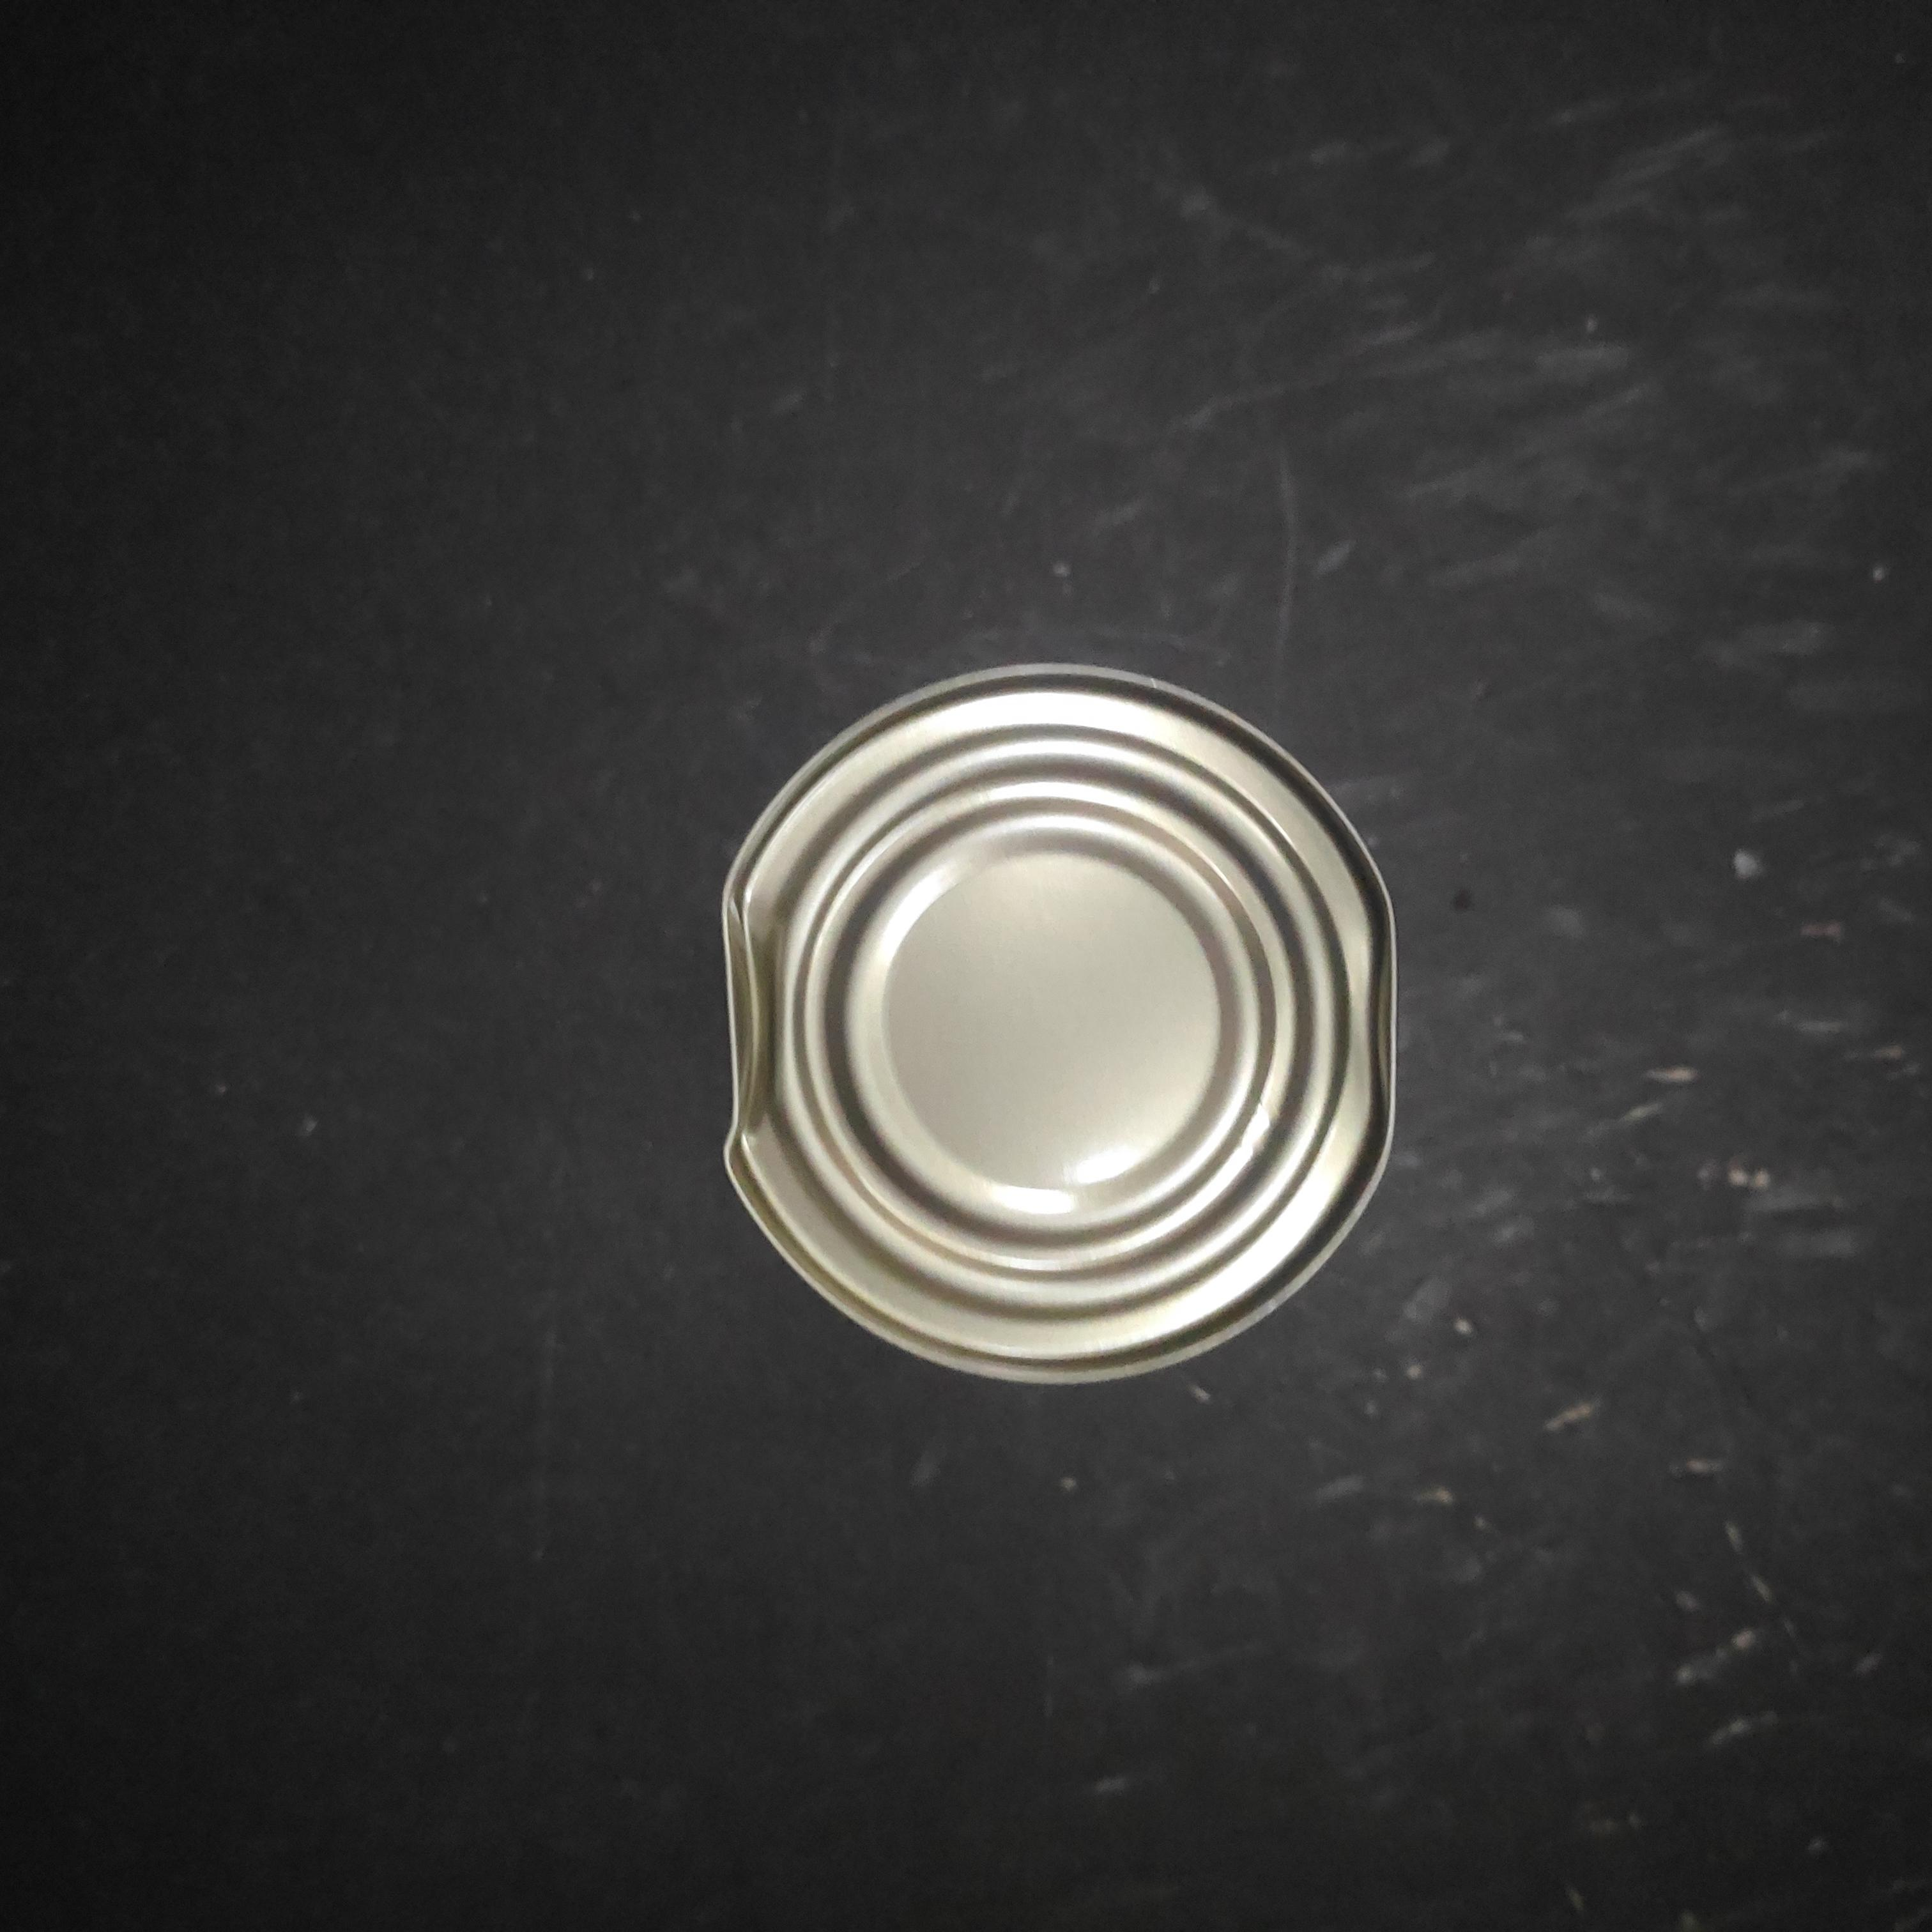Minor Defect: (515, 527, 1233, 1283)
